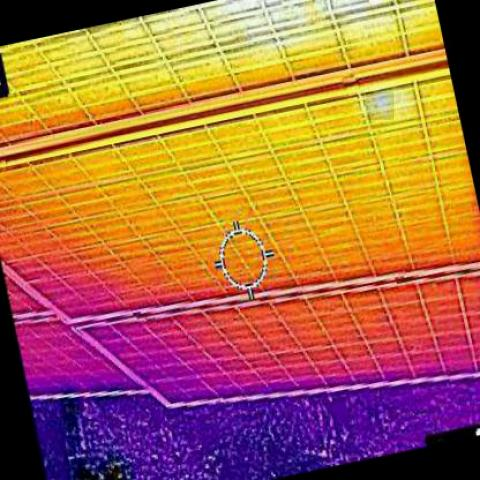fault: (366, 92, 394, 120)
